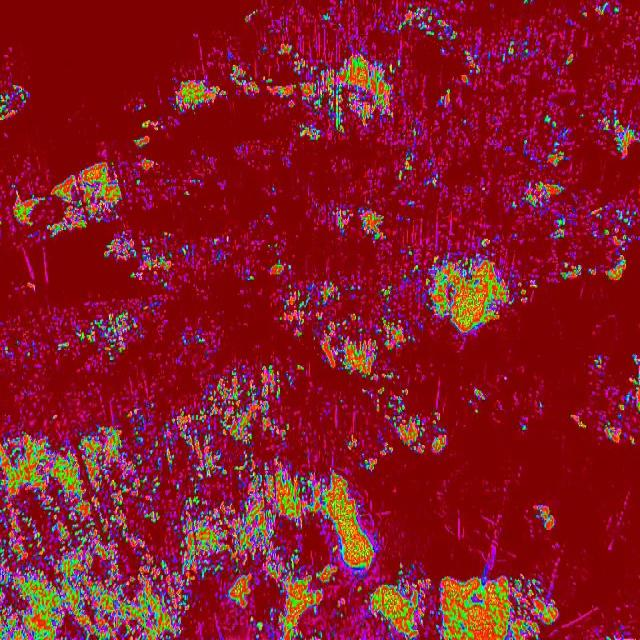fire: (0, 296, 384, 640), (231, 29, 400, 142), (384, 569, 566, 640), (400, 8, 574, 78), (12, 158, 140, 248), (404, 248, 518, 338), (106, 227, 232, 294), (383, 380, 449, 464), (268, 259, 342, 333), (592, 355, 640, 447), (326, 197, 386, 247), (589, 199, 640, 257), (140, 78, 229, 111), (130, 114, 178, 174), (595, 102, 640, 163), (378, 284, 411, 356), (512, 178, 568, 218), (561, 255, 626, 286), (538, 116, 570, 170), (405, 151, 442, 191), (0, 78, 29, 128), (530, 497, 558, 541), (437, 89, 452, 112)
